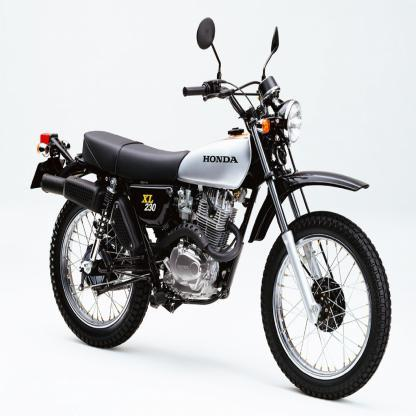Motorcycle: (28, 11, 394, 405)
